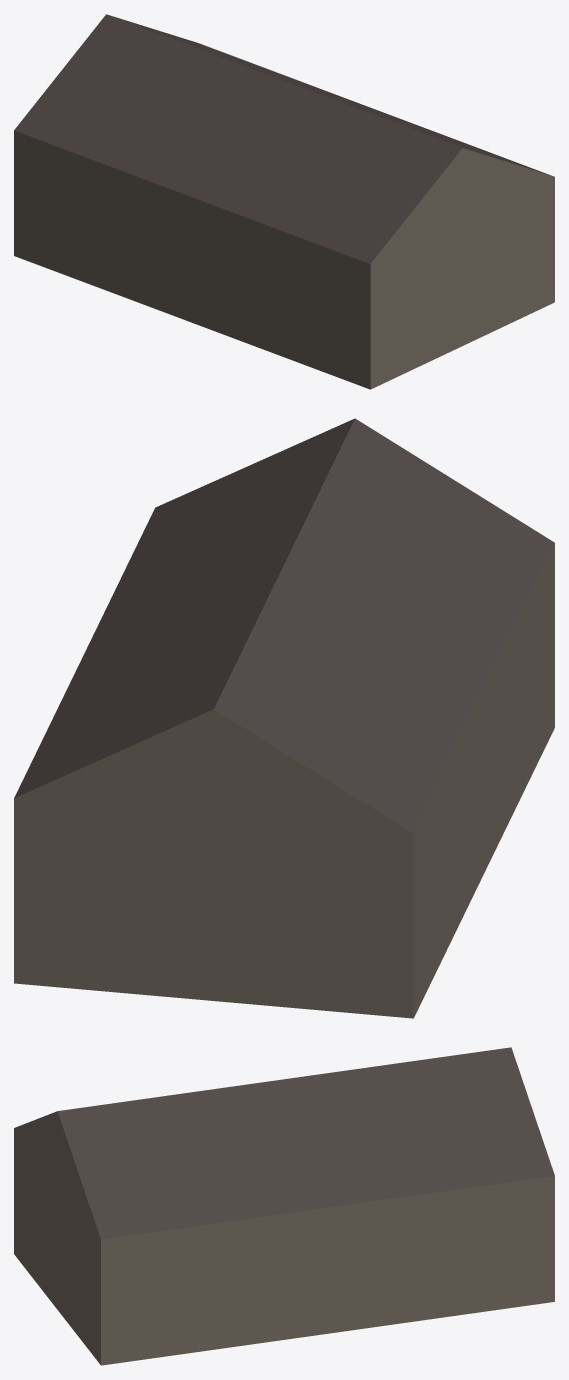
3 renders of one model, top to bottom at view 1: azimuth 30°, elevation 25°; view 2: azimuth 150°, elevation 25°; view 3: azimuth 270°, elevation 25°, orthographic. The views are drawn at different scales.
Parts seen in each view (by area): view 1: HP-w859457340; view 2: HP-w859457340; view 3: HP-w859457340.
Boxes of the visible parts, x1,y1,x2,y2 form: HP-w859457340: [14, 14, 554, 389]; HP-w859457340: [14, 418, 554, 1018]; HP-w859457340: [14, 1047, 554, 1365].
Bounding box in the file's own units: 17.91 × 9.46 × 23.35.
